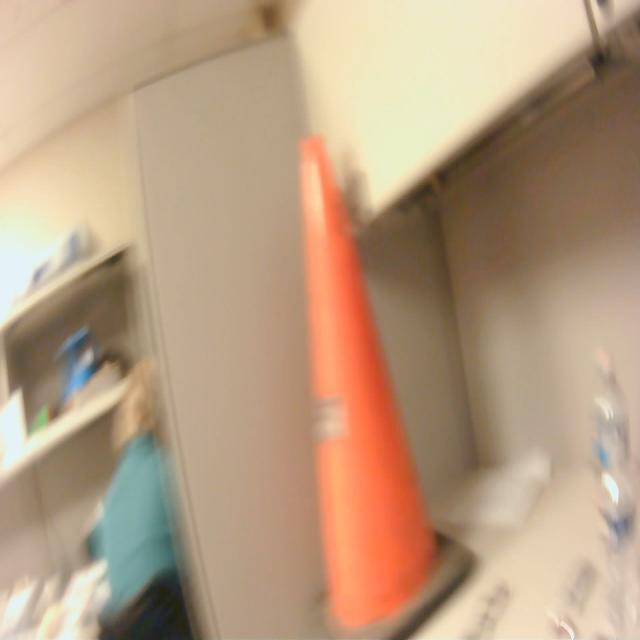traffic cone: (298, 127, 486, 640)
